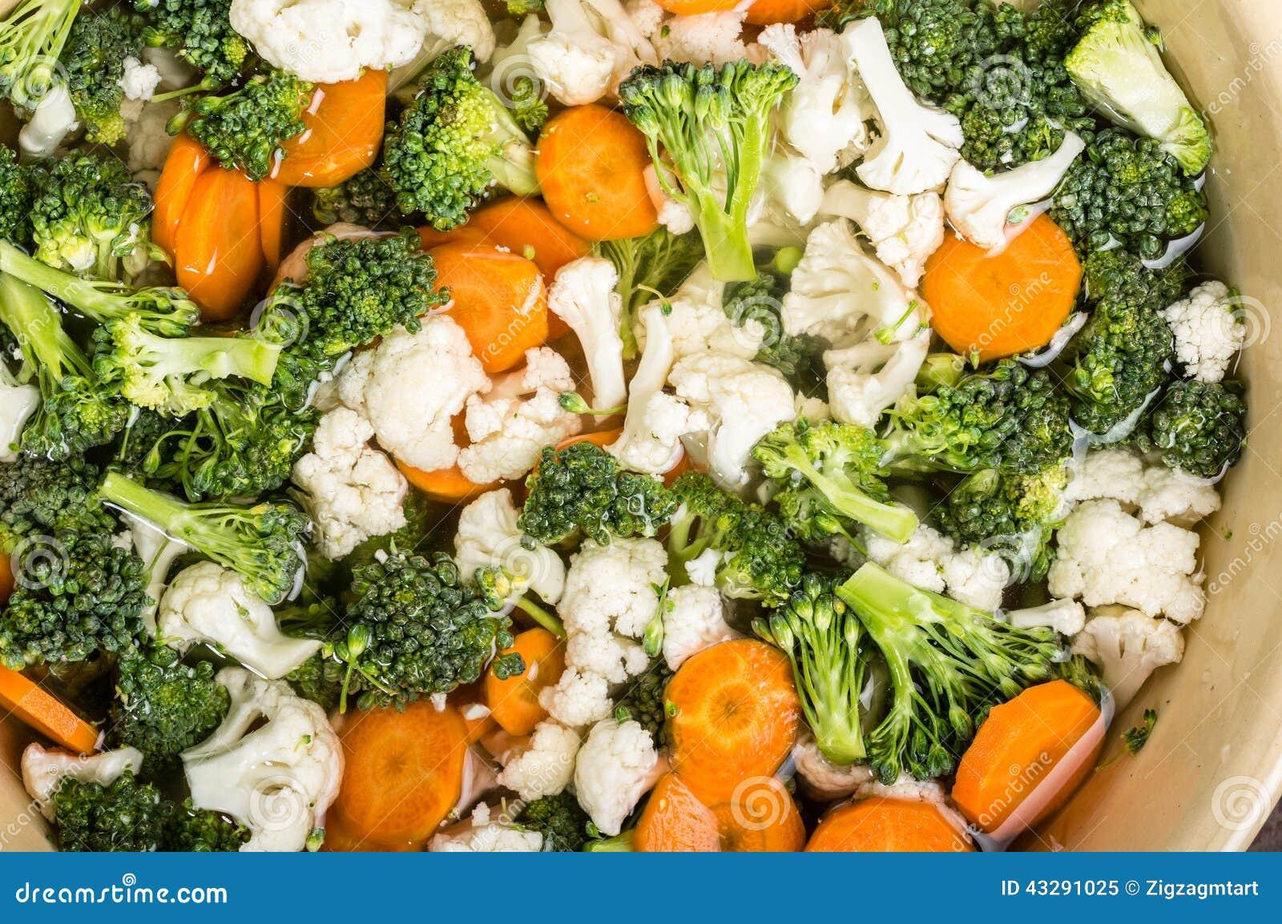broccoli: (619, 63, 804, 287)
brocolli: (913, 21, 1250, 473), (8, 263, 336, 650)
carrot: (924, 214, 1087, 365), (954, 679, 1109, 835), (662, 639, 800, 813), (156, 135, 285, 317), (330, 705, 475, 852), (534, 105, 661, 244), (425, 236, 545, 375), (272, 69, 396, 190), (0, 663, 101, 761)
cauliflower: (554, 255, 885, 490)
